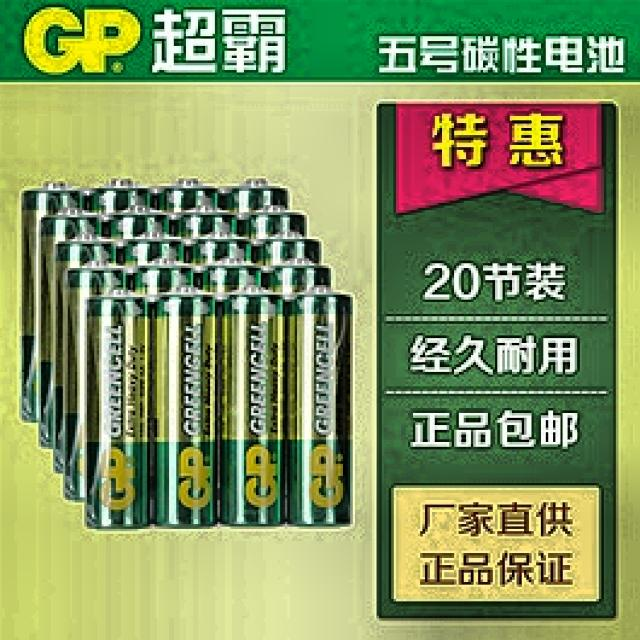Non-Valuable Waste - Batteries: (22, 180, 351, 528)
